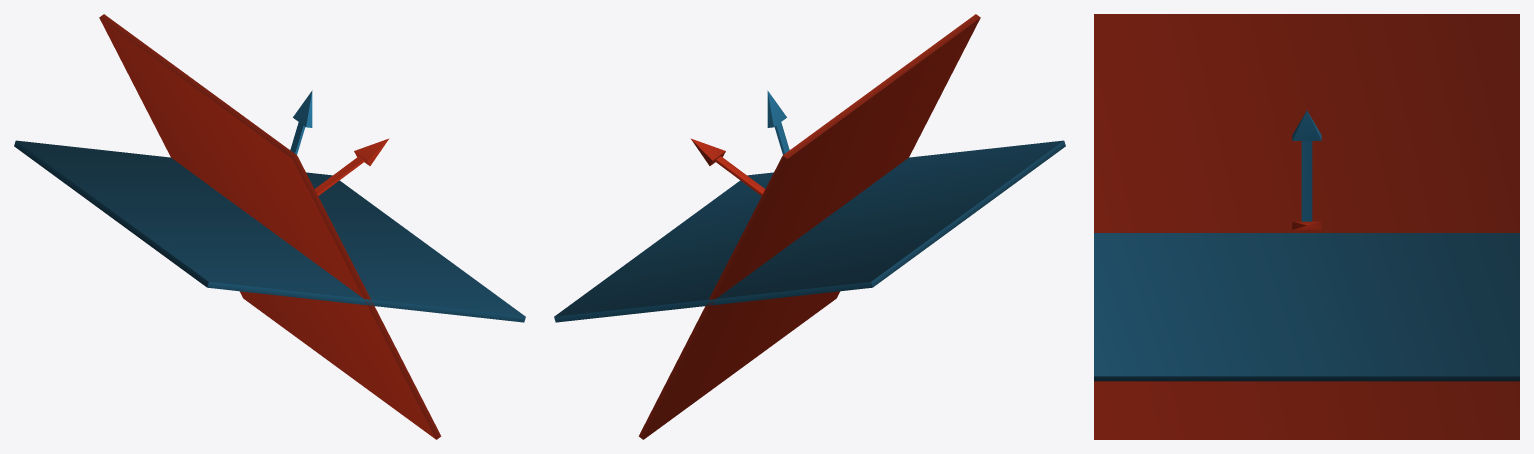
3 renders of one model, left to right at view 1: azimuth 30°, elevation 25°; view 2: azimuth 150°, elevation 25°; view 3: azimuth 270°, elevation 25°, orthographic. The views are drawn at different scales.
Visible parts, largest first — view 1: Cube.017, Cube.019, Cube.018, Cube.016; view 2: Cube.017, Cube.019, Cube.018, Cube.016; view 3: Cube.019, Cube.017, Cube.016.
Boxes of the visible parts, x1=… form: Cube.017: x1=14, y1=140, x2=525, y2=322; Cube.019: x1=99, y1=14, x2=441, y2=439; Cube.018: x1=314, y1=138, x2=389, y2=195; Cube.016: x1=290, y1=90, x2=312, y2=154; Cube.017: x1=554, y1=140, x2=1065, y2=322; Cube.019: x1=638, y1=14, x2=980, y2=439; Cube.018: x1=690, y1=138, x2=765, y2=195; Cube.016: x1=767, y1=90, x2=789, y2=154; Cube.019: x1=1094, y1=14, x2=1519, y2=439; Cube.017: x1=1094, y1=233, x2=1519, y2=381; Cube.016: x1=1292, y1=110, x2=1321, y2=221.
Size of the model in its own units: 2.84 by 2.71 by 2.98.
Materials: 1 (1 with a texture image).
